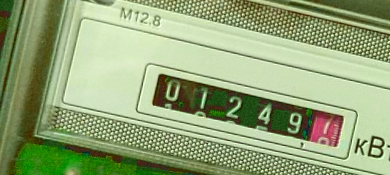0: (162, 76, 183, 104)
1: (194, 84, 211, 111)
2: (222, 94, 243, 122)
4: (255, 100, 275, 127)
7: (318, 110, 337, 138)
9: (283, 109, 304, 137)
screen: (131, 60, 363, 165)
